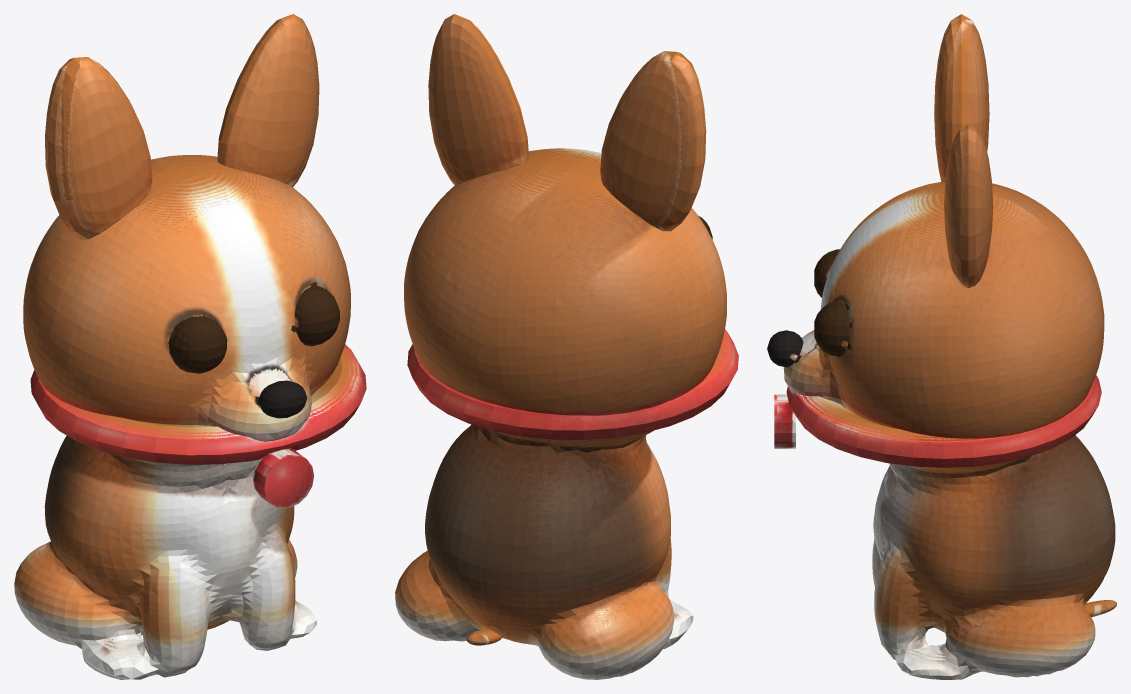
The model's file is figure.glb.
3 views of the same model, side by side, from view 1: azimuth 30°, elevation 25°; view 2: azimuth 150°, elevation 25°; view 3: azimuth 270°, elevation 25° (orthographic). The views are drawn at different scales.
Parts seen in each view (by area): view 1: figure; view 2: figure; view 3: figure.
Boxes of the visible parts, bbox=[...] form: figure: bbox=[14, 14, 366, 679]; figure: bbox=[395, 14, 738, 679]; figure: bbox=[767, 14, 1116, 679].
Size of the model in its own units: 48.78 by 97.08 by 54.02.
1 material, 1 textured.
